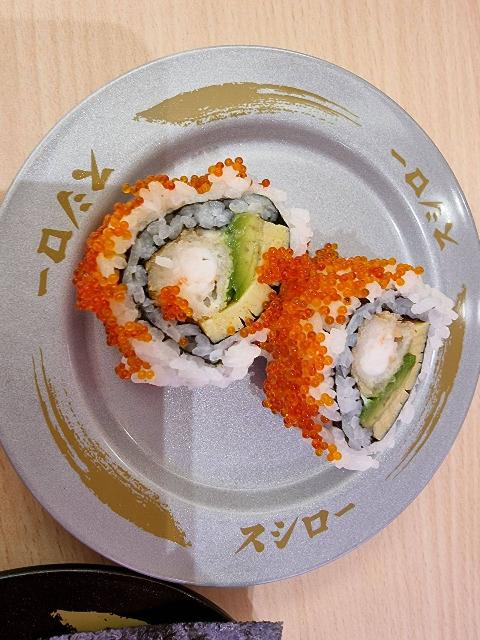janback: (0, 571, 237, 640)
janwhite: (22, 44, 460, 593)
